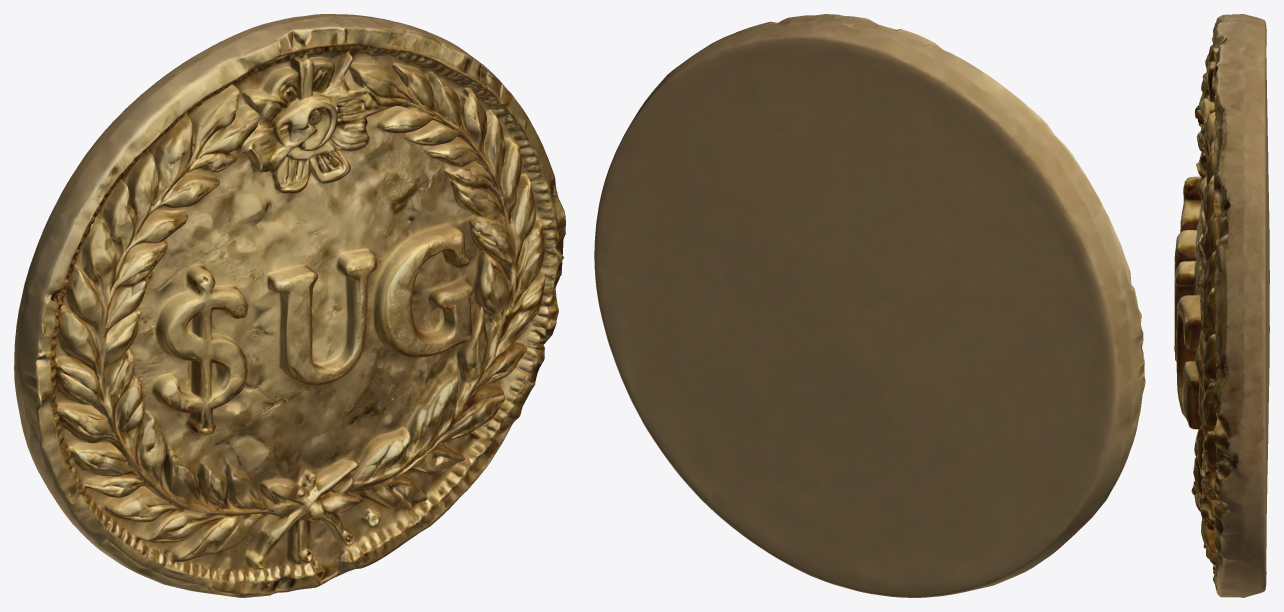
File: coin-rug.glb
3 renders of one model, left to right at view 1: azimuth 30°, elevation 25°; view 2: azimuth 150°, elevation 25°; view 3: azimuth 270°, elevation 25°, orthographic. The views are drawn at different scales.
Parts seen in each view (by area): view 1: tripo_node_71948d8d-0adf-4af6-8e89-5b349e88b717; view 2: tripo_node_71948d8d-0adf-4af6-8e89-5b349e88b717; view 3: tripo_node_71948d8d-0adf-4af6-8e89-5b349e88b717.
Boxes of the visible parts, x1,y1,x2,y2 form: tripo_node_71948d8d-0adf-4af6-8e89-5b349e88b717: (14,14,565,597); tripo_node_71948d8d-0adf-4af6-8e89-5b349e88b717: (594,14,1145,597); tripo_node_71948d8d-0adf-4af6-8e89-5b349e88b717: (1174,14,1269,597).
Size of the model in its own units: 0.9799 by 0.9787 by 0.1599.
Materials: 1 (1 with a texture image).
